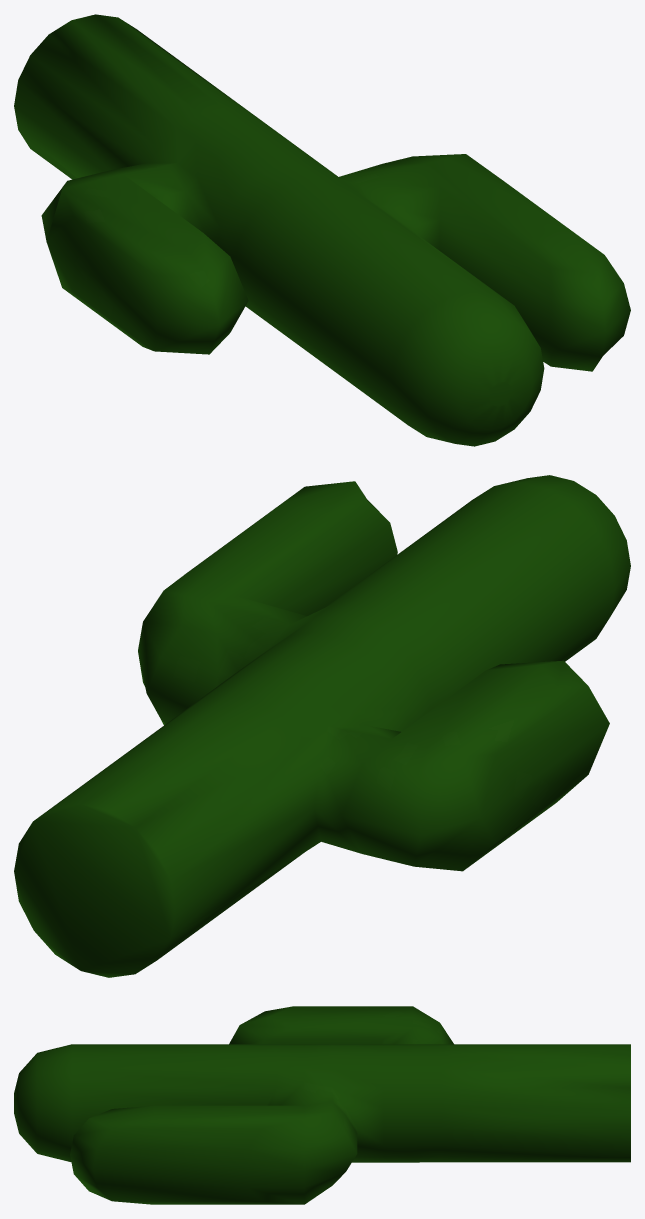
File: cactus.fbx
3 renders of one model, top to bottom at view 1: azimuth 30°, elevation 25°; view 2: azimuth 150°, elevation 25°; view 3: azimuth 270°, elevation 25°, orthographic. The views are drawn at different scales.
Visible parts, largest first — view 1: Cylinder01_None; view 2: Cylinder01_None; view 3: Cylinder01_None.
Boxes of the visible parts, box(x1,y1,x2,y2) form: Cylinder01_None: box(14, 14, 630, 446); Cylinder01_None: box(14, 475, 630, 977); Cylinder01_None: box(14, 1006, 630, 1204).
Bounding box in the file's own units: 42.94 × 15.97 × 84.23.
1 material, 1 textured.
